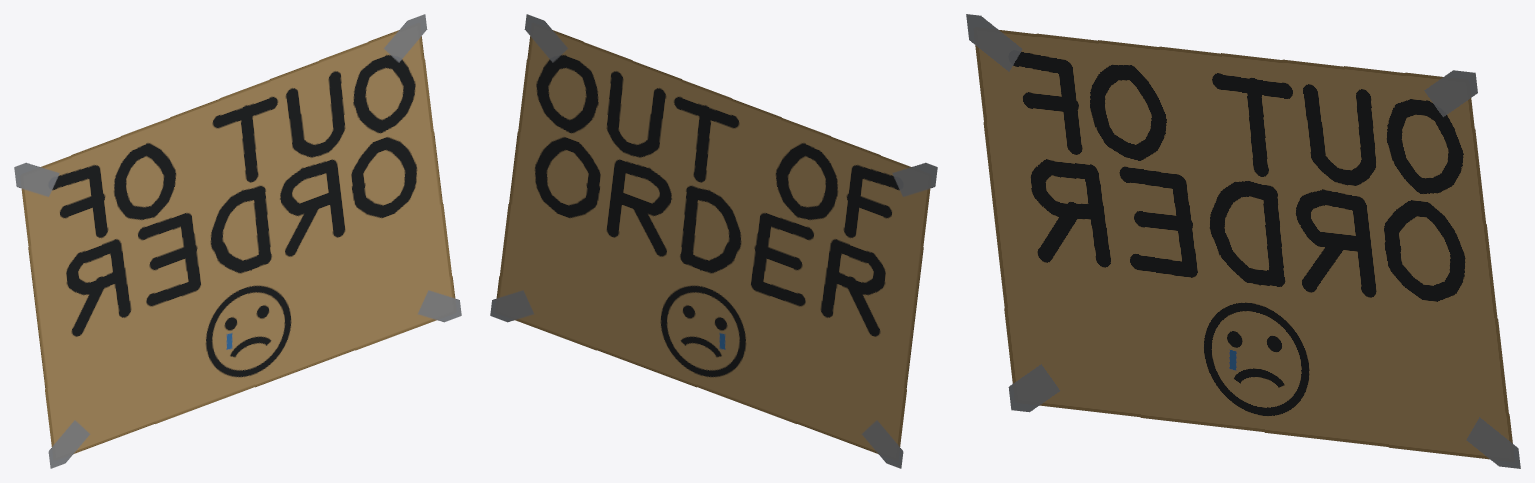
The model's file is lwf_portaloo_out_of_order_sign_v1.glb.
3 views of the same model, side by side, from view 1: azimuth 30°, elevation 25°; view 2: azimuth 150°, elevation 25°; view 3: azimuth 330°, elevation 25° (orthographic). The views are drawn at different scales.
Visible parts, largest first — view 1: LWF_OutOfOrderSign; view 2: LWF_OutOfOrderSign; view 3: LWF_OutOfOrderSign.
Part boxes in pixels (x1,y1,x2,y2): LWF_OutOfOrderSign: (14,14,461,468); LWF_OutOfOrderSign: (490,14,937,468); LWF_OutOfOrderSign: (966,14,1520,468).
Size of the model in its own units: 0.778 by 0.6039 by 0.
1 material, 1 textured.
